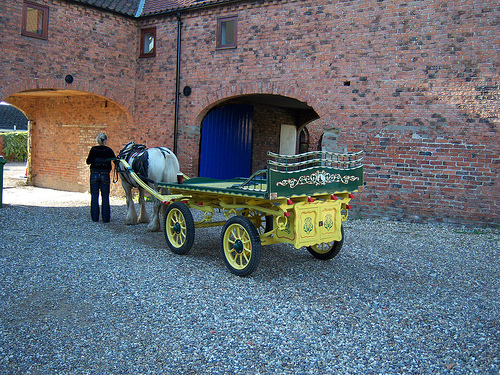horse: (116, 141, 184, 230)
